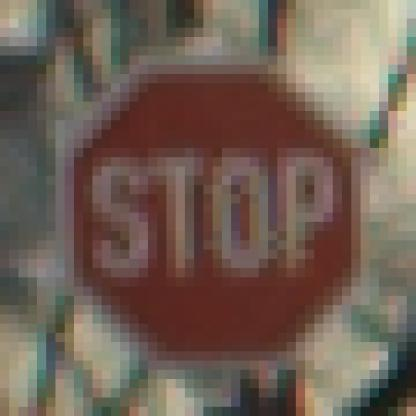stop: (65, 53, 365, 370)
